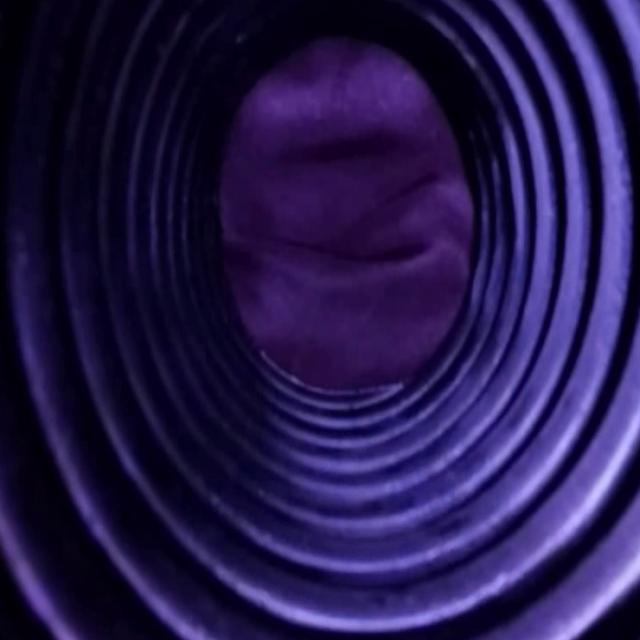block: (219, 50, 479, 389)
